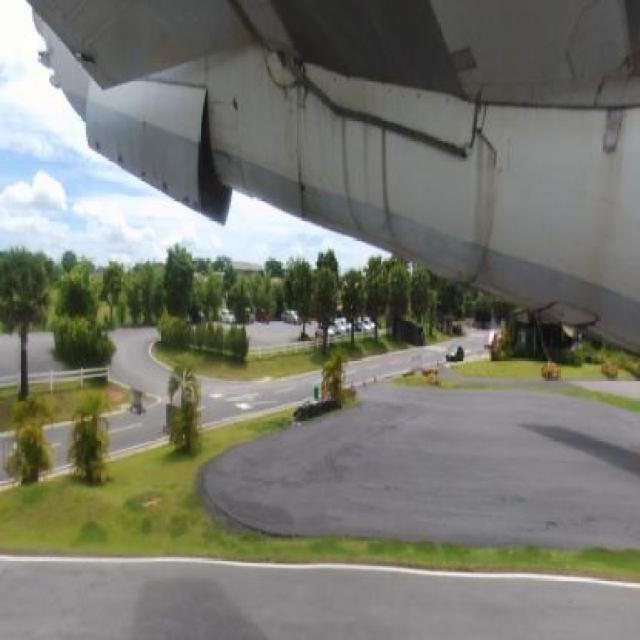Rust: (579, 108, 632, 321), (328, 107, 404, 253), (262, 39, 316, 213), (460, 114, 508, 291), (195, 8, 260, 77), (586, 32, 634, 110), (206, 141, 251, 202), (145, 24, 184, 87), (224, 87, 250, 133), (179, 184, 204, 218), (112, 146, 130, 172), (136, 164, 152, 191), (159, 167, 172, 198), (93, 135, 104, 162)
Scartch: (280, 78, 302, 160), (66, 42, 111, 72)
